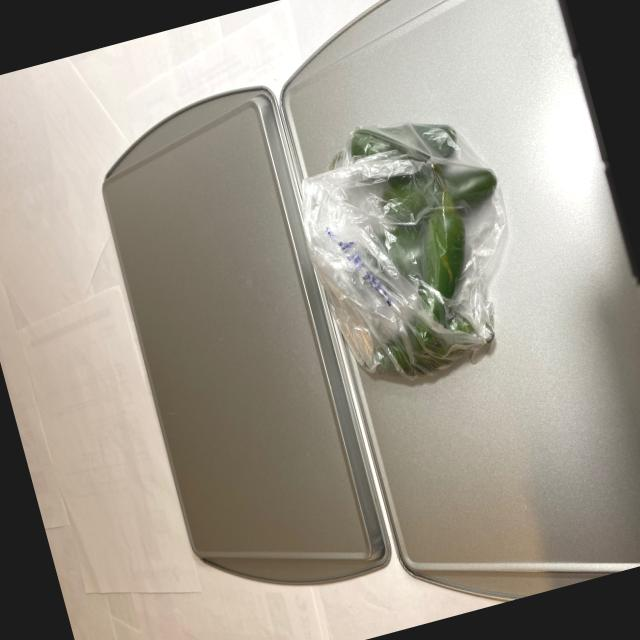chilli: (293, 98, 545, 400)
